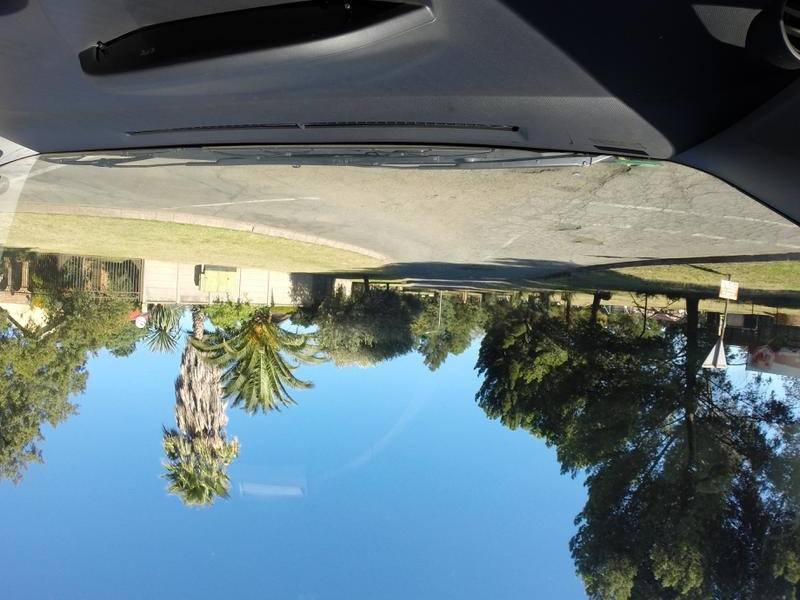pothole: (511, 168, 565, 181), (570, 235, 610, 246), (556, 219, 584, 232)
